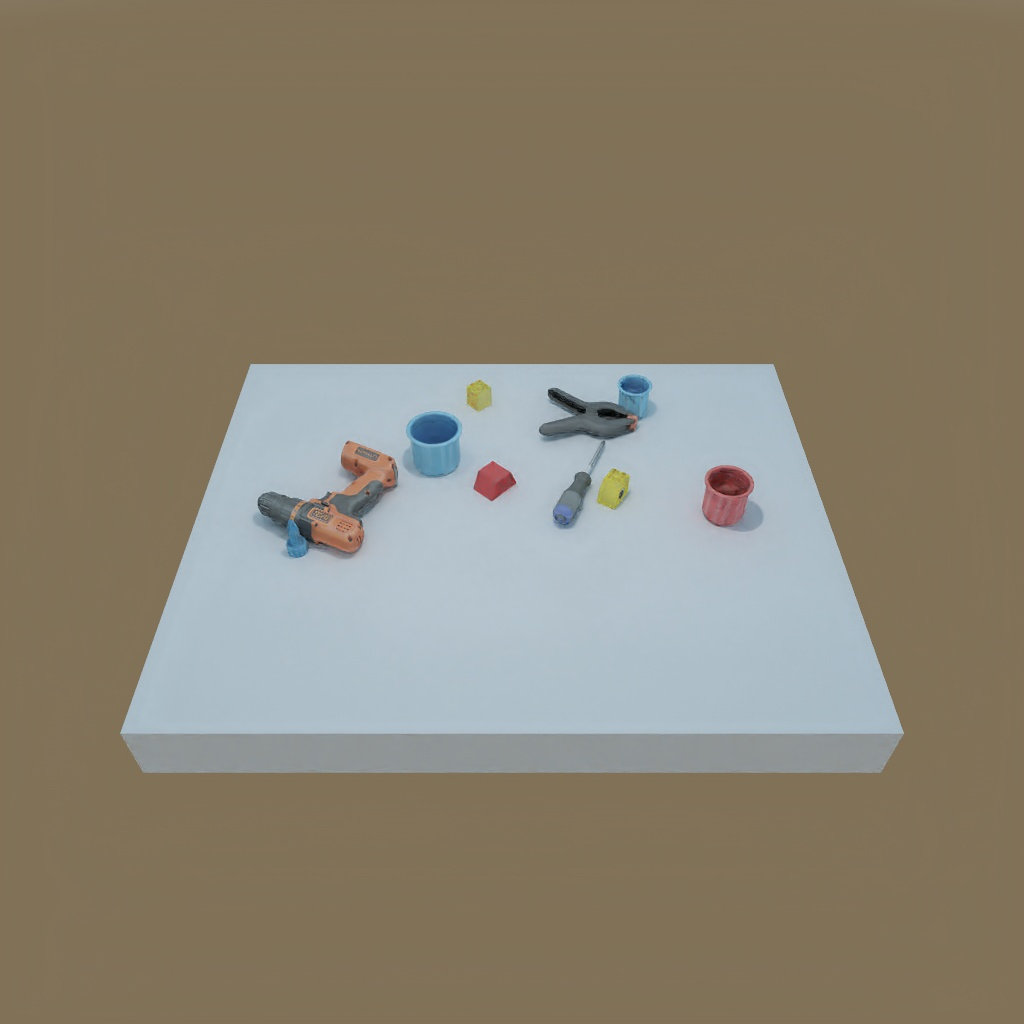power_drill: (256, 435, 392, 552)
